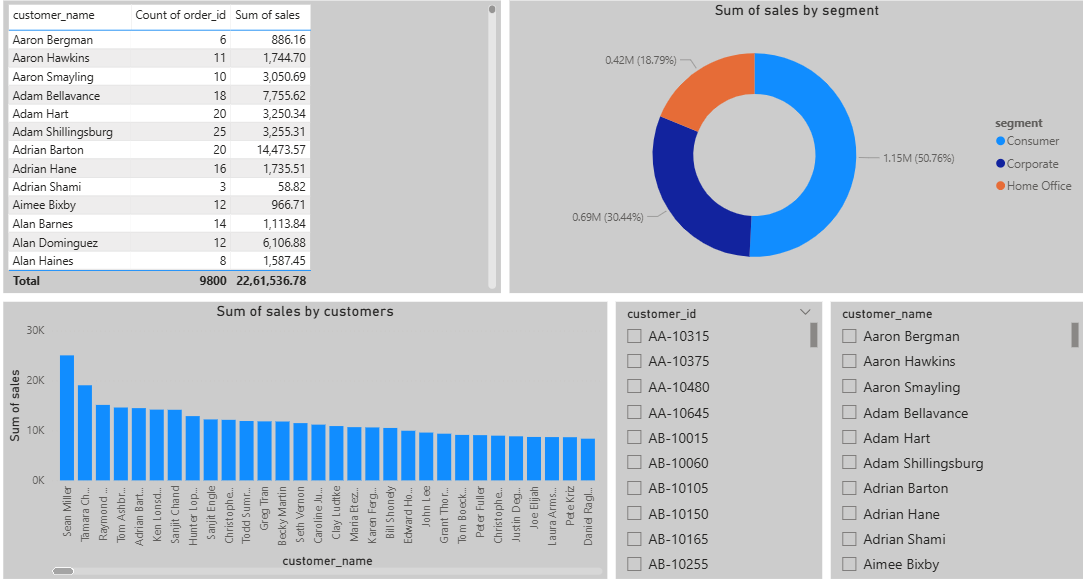

Layout of this report page (visuals, bound fields, positions):
{"tool":"powerbi","page":{"name":"Customer Analysis","canvas":[1280,720],"ordinal":2},"visuals":[{"type":"columnChart","title":"Sum of sales by customers","fields":{"Y":["Sum(retail_sales.sales)"],"Category":["retail_sales.customer_name"]},"box":[24.3,370,690,317.1],"z":0},{"type":"donutChart","fields":{"Category":["retail_sales.segment"],"Y":["Sum(retail_sales.sales)"]},"box":[602.9,25.7,657.1,334.3],"z":1000},{"type":"tableEx","fields":{"Values":["retail_sales.customer_name","retail_sales.order_id","Sum(retail_sales.sales)"]},"box":[24.3,25.7,568.6,334.3],"z":2000},{"type":"slicer","fields":{"Values":["retail_sales.customer_id"]},"box":[724.3,370,235.7,317.1],"z":3000},{"type":"slicer","fields":{"Values":["retail_sales.customer_name"]},"box":[970,370,288.6,317.1],"z":4000}]}

Visuals, with their boxes on the page's 1280x720 design canvas (x1, y1, x2, y2). These are canvas units, not pixel positions in the 1083x579 screenshot, which may show the page scaled, cropped or inside an application window:
"Sum of sales by customers" columnChart: 24 370 714 687
donutChart - retail_sales.segment x Sum(retail_sales.sales): 603 26 1260 360
tableEx - retail_sales.customer_name x retail_sales.order_id: 24 26 593 360
slicer - retail_sales.customer_id: 724 370 960 687
slicer - retail_sales.customer_name: 970 370 1259 687
